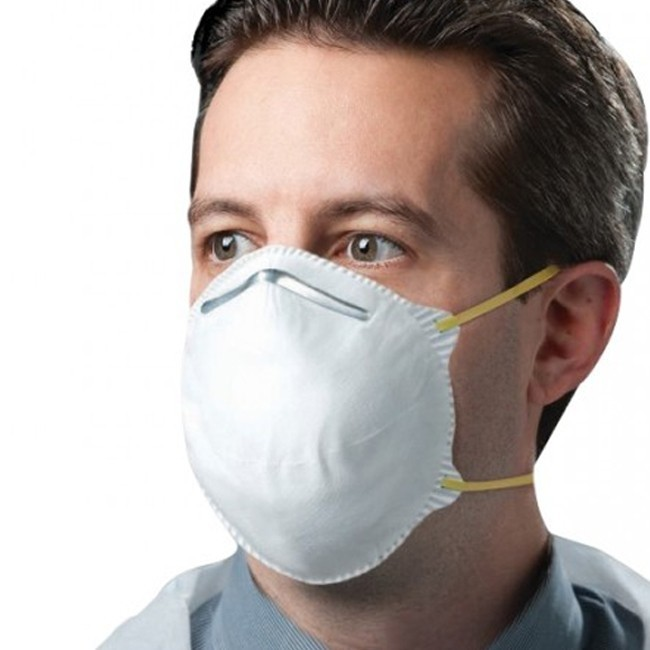n95: (169, 237, 482, 591)
